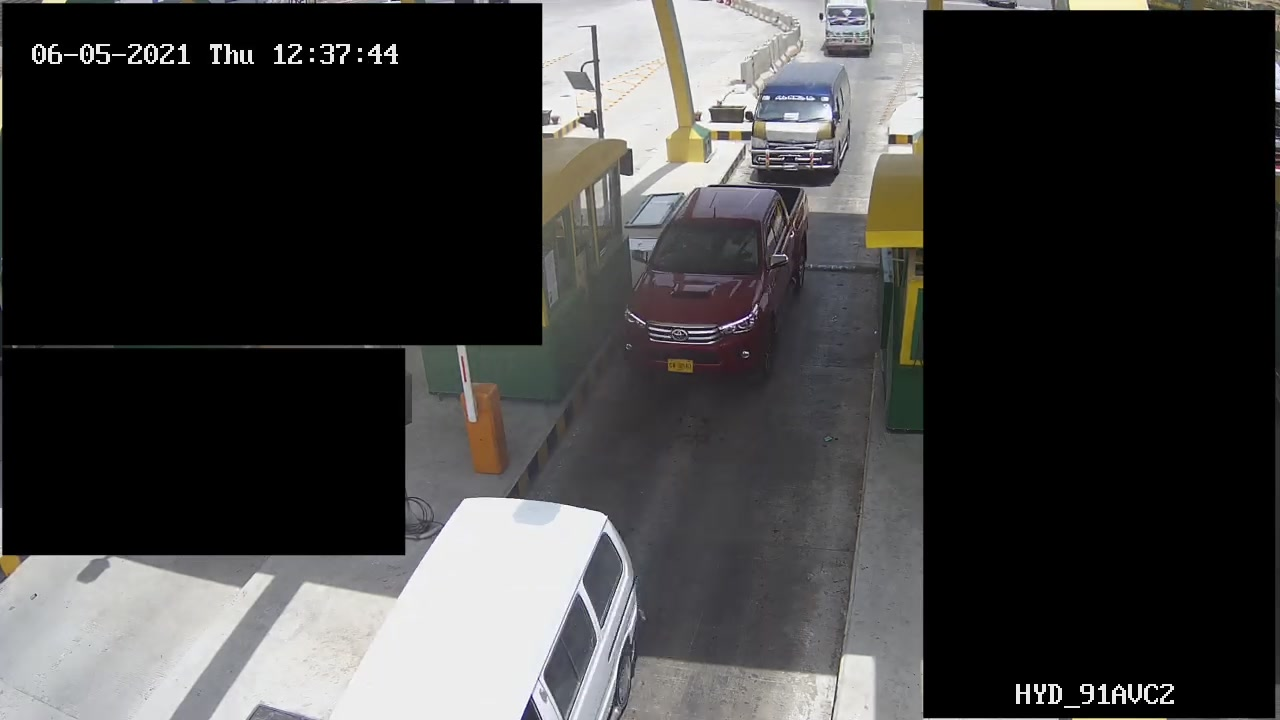F1: (633, 179, 816, 385)
F2: (746, 54, 853, 182)
